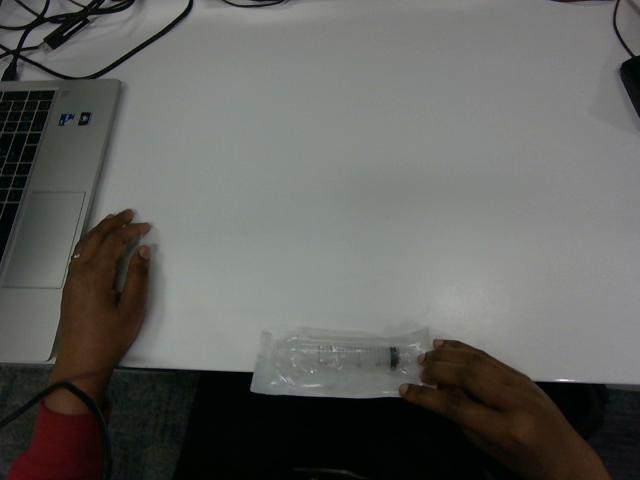syringe: (251, 327, 430, 397)
